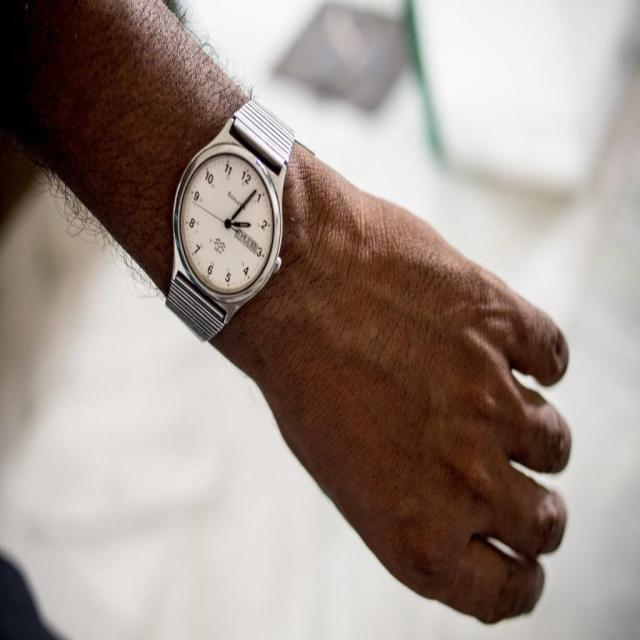Wrist watch: (166, 91, 295, 342)
